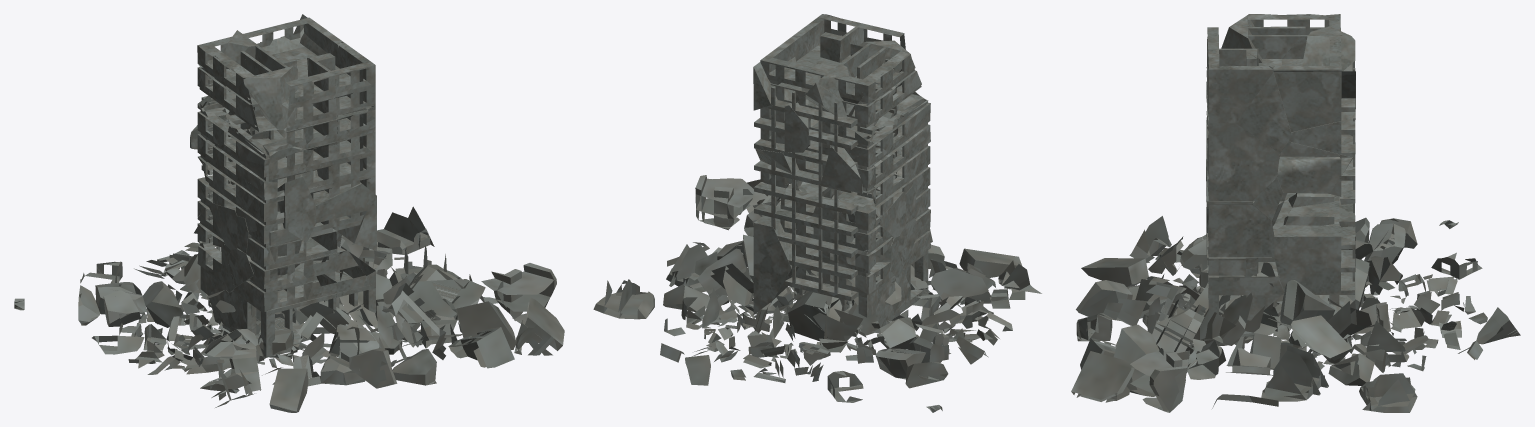
3 renders of one model, left to right at view 1: azimuth 30°, elevation 25°; view 2: azimuth 150°, elevation 25°; view 3: azimuth 270°, elevation 25°, orthographic. The views are drawn at different scales.
Parts seen in each view (by area): view 1: base_cell.002; view 2: base_cell.002; view 3: base_cell.002.
Part boxes in pixels (bbox=[...]): base_cell.002: bbox=[14, 14, 564, 412]; base_cell.002: bbox=[593, 14, 1041, 412]; base_cell.002: bbox=[1071, 14, 1520, 412].
Bounding box in the file's own units: 72.17 × 48.33 × 69.86.
1 material, 1 textured.
